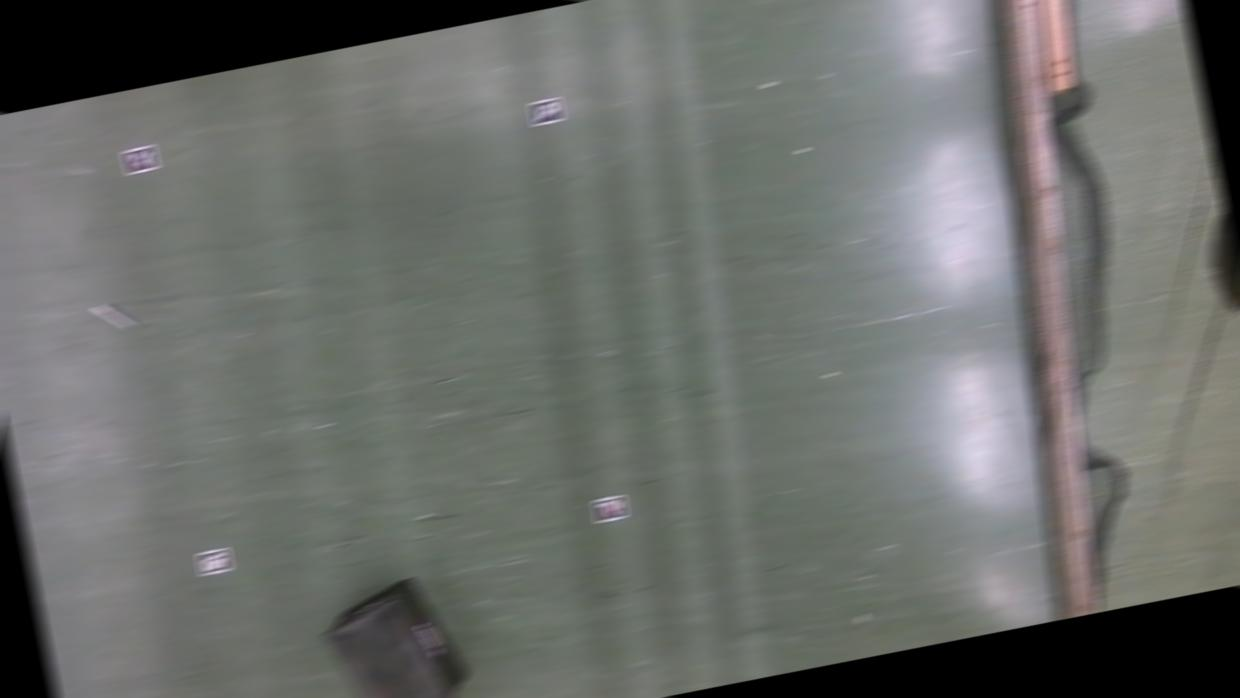probes: (92, 298, 137, 336)
rako: (314, 568, 478, 698)
